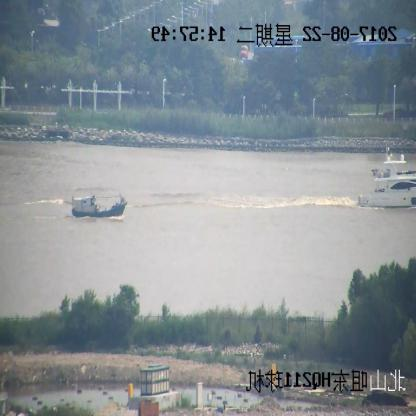Fishing Boat: (71, 191, 128, 220)
